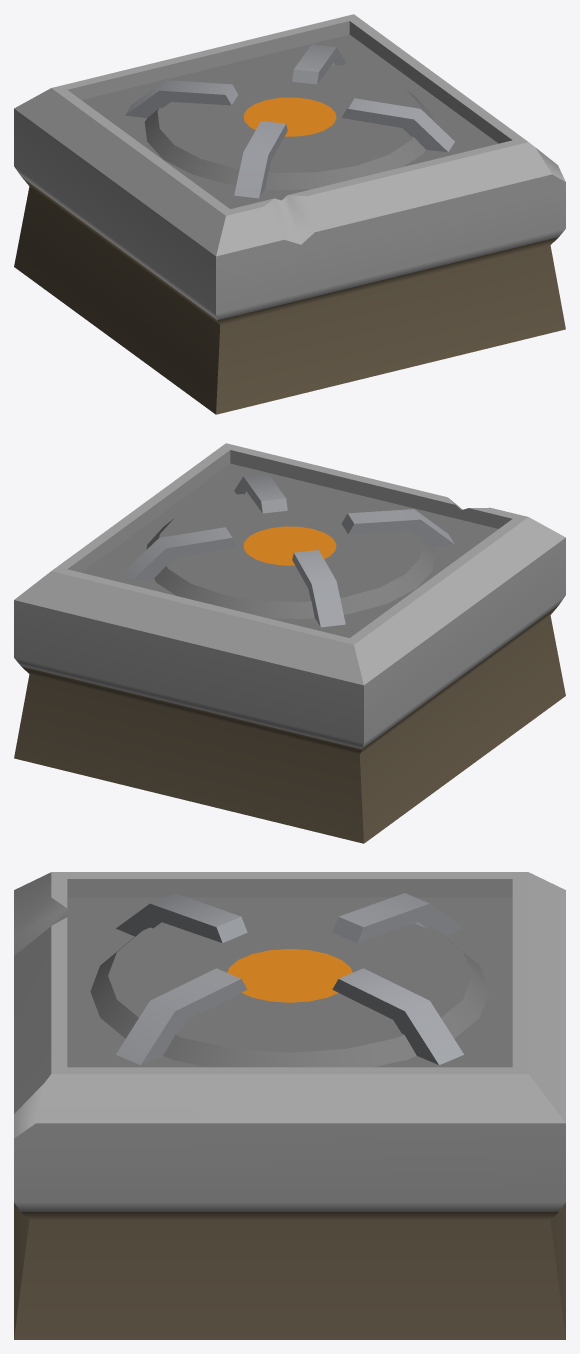
Rendered from SM_Stove.fbx.
3 renders of one model, top to bottom at view 1: azimuth 30°, elevation 25°; view 2: azimuth 150°, elevation 25°; view 3: azimuth 270°, elevation 25°, orthographic. The views are drawn at different scales.
Parts seen in each view (by area): view 1: polySurface14; view 2: polySurface14; view 3: polySurface14.
Part boxes in pixels (x1=…): polySurface14: x1=14, y1=14, x2=565, y2=414; polySurface14: x1=14, y1=443, x2=565, y2=843; polySurface14: x1=14, y1=872, x2=565, y2=1339.
Size of the model in its own units: 100 by 55.06 by 100.
